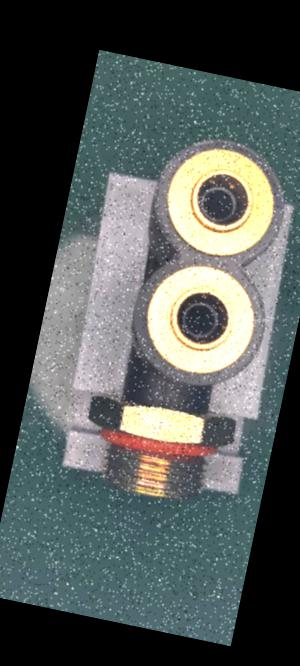joint line: (165, 381, 177, 402)
